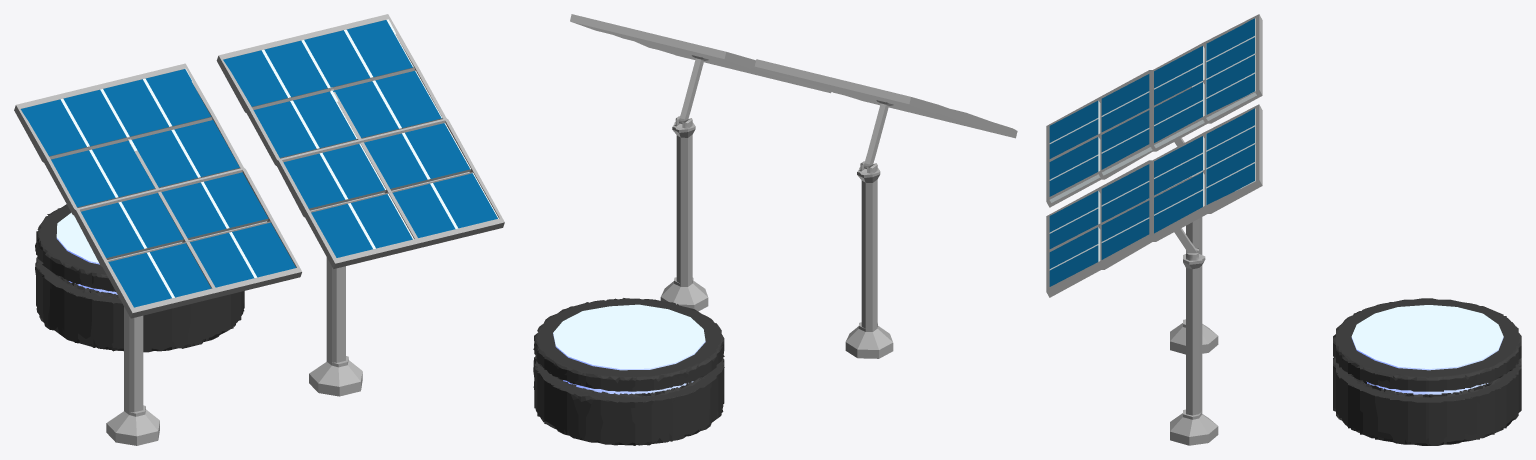
The model's file is compressed_Decors_3.glb.
3 views of the same model, side by side, from view 1: azimuth 30°, elevation 25°; view 2: azimuth 150°, elevation 25°; view 3: azimuth 270°, elevation 25° (orthographic). The views are drawn at different scales.
Parts seen in each view (by area): view 1: SolarScreen1, SolarScreen2, Hologrambase, SolarPanel2, SolarPanel, Cylinder.009, Cylinder.008, HologramLight; view 2: Hologrambase, HologramLight, Cylinder.008, Cylinder.009, SolarPanel, SolarPanel2, Cube.030, Cube.025; view 3: Hologrambase, SolarScreen1, SolarScreen2, HologramLight, SolarPanel2, SolarPanel, Cylinder.009, Cylinder.008.
Boxes of the visible parts, x1,y1,x2,y2 form: SolarScreen1: (20, 68, 300, 307); SolarScreen2: (223, 19, 498, 257); Hologrambase: (35, 204, 244, 352); SolarPanel2: (216, 14, 504, 268); SolarPanel: (14, 63, 301, 318); Cylinder.009: (309, 257, 362, 396); Cylinder.008: (106, 307, 159, 445); HologramLight: (56, 212, 117, 294); Hologrambase: (533, 298, 724, 445); HologramLight: (553, 304, 705, 394); Cylinder.008: (845, 161, 893, 358); Cylinder.009: (660, 116, 708, 311); SolarPanel: (754, 59, 1017, 138); SolarPanel2: (570, 14, 831, 93); Cube.030: (679, 55, 708, 123); Cube.025: (864, 100, 893, 169); Hologrambase: (1333, 298, 1521, 445); SolarScreen1: (1049, 18, 1256, 202); SolarScreen2: (1049, 108, 1255, 286); HologramLight: (1351, 305, 1503, 394); SolarPanel2: (1046, 104, 1262, 297); SolarPanel: (1046, 14, 1262, 207); Cylinder.009: (1170, 248, 1218, 445); Cylinder.008: (1170, 217, 1218, 354).
Size of the model in its own units: 6.2 by 5.16 by 7.52.
